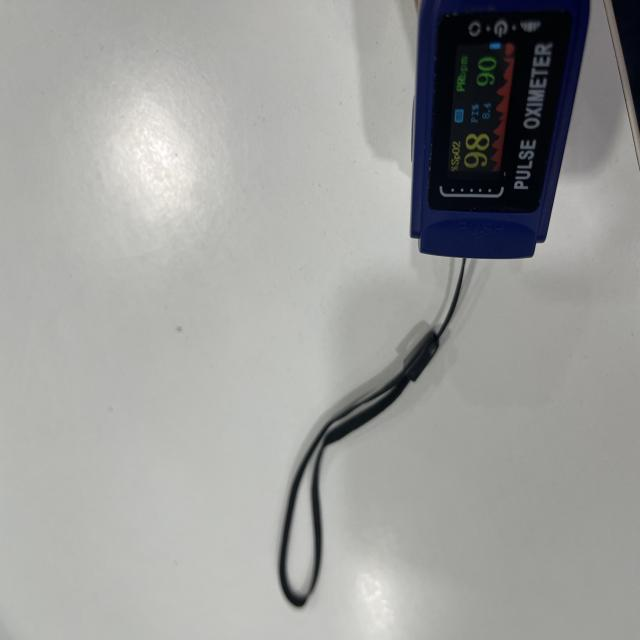spo2: (410, 0, 592, 261)
